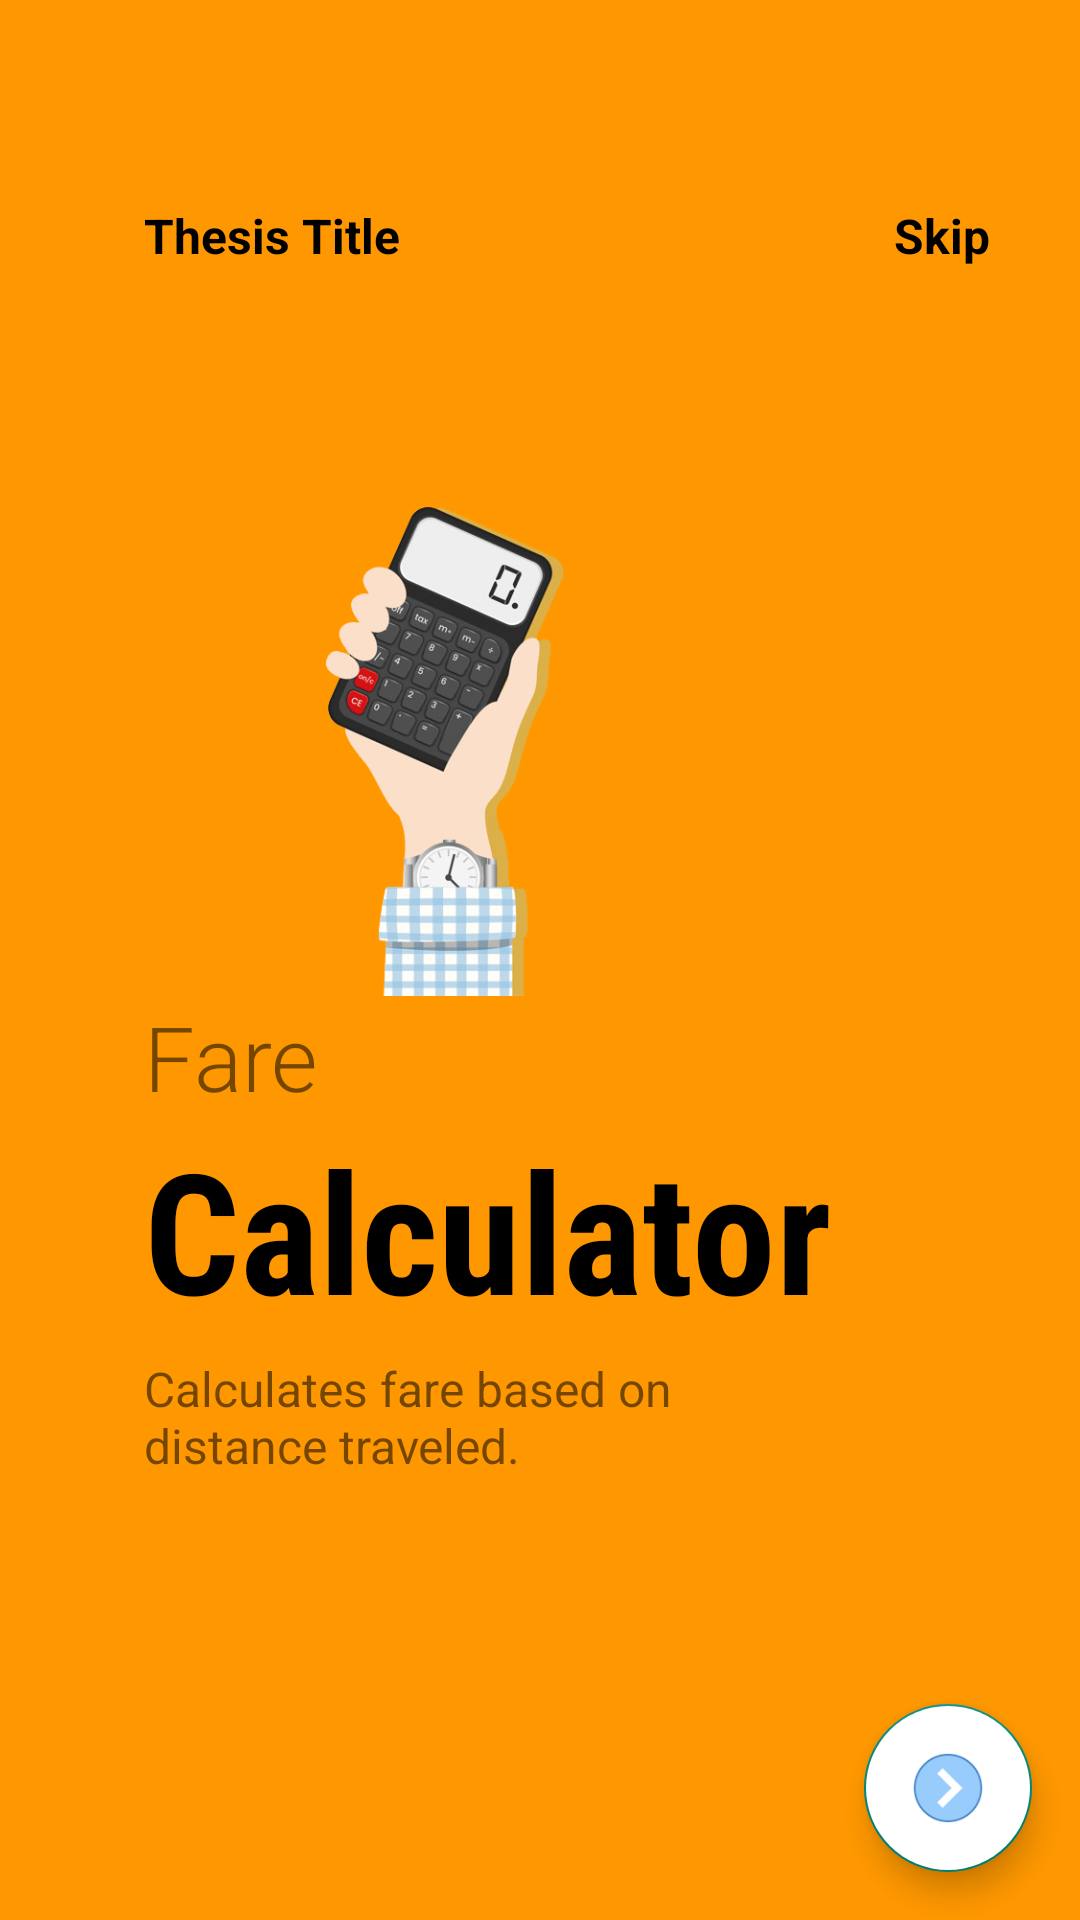

Icon bounding boxes for this 1080w x 1920h phone screenshot, format (x1, y1, x2, y2):
next page: (864, 1704, 1032, 1872)
